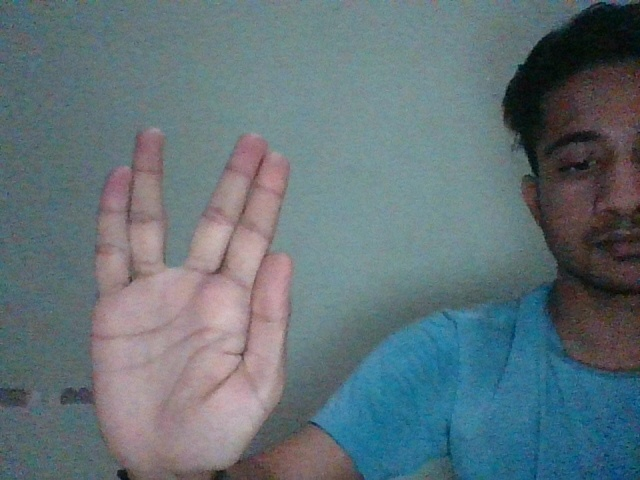livelong: (86, 127, 290, 469)
